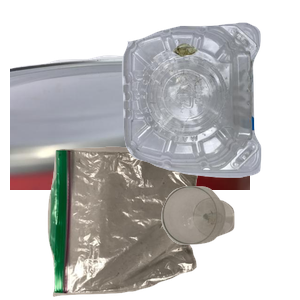glass: (159, 184, 300, 300)
metal: (10, 52, 250, 232)
plastic: (119, 20, 300, 190)
trash: (45, 144, 235, 300)
